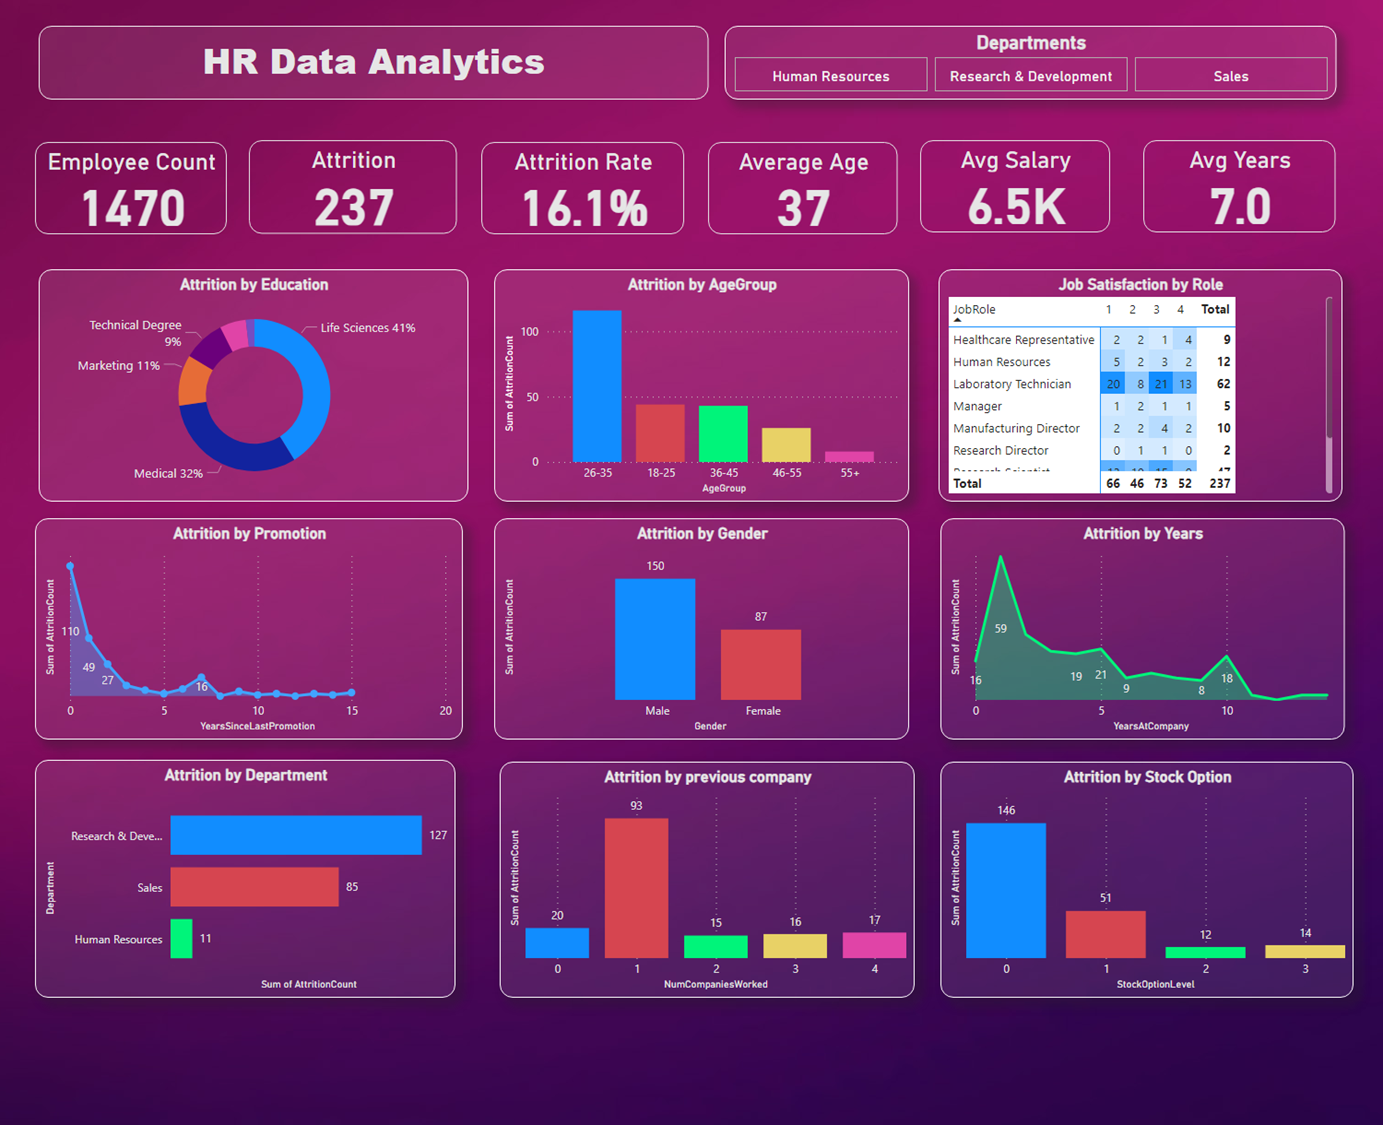

This screenshot's page, from the dashboard's own definition file:
{"tool":"powerbi","page":{"name":"Page 1","canvas":[1500,1200],"ordinal":0},"visuals":[{"type":"card","title":"Employee Count","fields":{"Values":["CountNonNull(HR_Analytics.EmpID)"]},"box":[38,144,208,100],"z":0},{"type":"card","title":"Attrition","fields":{"Values":["Sum(HR_Analytics.AttritionCount)"]},"box":[269.9,141.7,225.7,101.4],"z":1000},{"type":"card","title":"Attrition Rate","fields":{"Values":["HR_Analytics.AttritionRate"]},"box":[521.4,143.1,220,100],"z":2000},{"type":"card","title":"Average Age","fields":{"Values":["Avg(HR_Analytics.Age)"]},"box":[768.5,143.1,205.7,100],"z":3000},{"type":"card","title":"Avg Salary","fields":{"Values":["Avg(HR_Analytics.MonthlyIncome)"]},"box":[998,142,206,100],"z":4000},{"type":"card","title":"Avg Years","fields":{"Values":["Avg(HR_Analytics.YearsAtCompany)"]},"box":[1240.9,141.4,208.3,100],"z":5000},{"type":"donutChart","title":"Attrition by Education","fields":{"Category":["HR_Analytics.EducationField"],"Y":["CountNonNull(HR_Analytics.Attrition)"]},"box":[42.2,281.8,466,252],"z":6000},{"type":"clusteredColumnChart","title":"Attrition by AgeGroup","fields":{"Category":["HR_Analytics.AgeGroup"],"Y":["Sum(HR_Analytics.AttritionCount)"]},"box":[536.2,281.8,450,252],"z":7000},{"type":"pivotTable","title":"Job Satisfaction by Role","fields":{"Rows":["HR_Analytics.JobRole"],"Columns":["HR_Analytics.JobSatisfaction"],"Values":["Sum(HR_Analytics.AttritionCount)"]},"box":[1018.4,282.2,437.8,252.2],"z":8000},{"type":"stackedAreaChart","title":"Attrition by Promotion","fields":{"Category":["HR_Analytics.YearsSinceLastPromotion"],"Y":["Sum(HR_Analytics.AttritionCount)"]},"box":[38,552,464,240],"z":9000},{"type":"clusteredColumnChart","title":"Attrition by Gender","fields":{"Category":["HR_Analytics.Gender"],"Y":["Sum(HR_Analytics.AttritionCount)"]},"box":[536.7,551.7,450,240],"z":10000},{"type":"stackedAreaChart","title":"Attrition by Years","fields":{"Category":["HR_Analytics.YearsAtCompany"],"Y":["Sum(HR_Analytics.AttritionCount)"]},"box":[1020,551.7,438.3,240],"z":11000},{"type":"clusteredBarChart","title":"Attrition by Department","fields":{"Category":["HR_Analytics.Department"],"Y":["Sum(HR_Analytics.AttritionCount)"]},"box":[38,813.8,456,258],"z":12000},{"type":"clusteredColumnChart","title":"Attrition by previous company","fields":{"Category":["HR_Analytics.NumCompaniesWorked"],"Y":["Sum(HR_Analytics.AttritionCount)"]},"box":[542,815.8,450,256],"z":13000},{"type":"clusteredColumnChart","title":"Attrition by Stock Option","fields":{"Y":["Sum(HR_Analytics.AttritionCount)"],"Category":["HR_Analytics.StockOptionLevel"]},"box":[1020,815.8,448,256],"z":14000},{"type":"advancedSlicerVisual","title":"Departments","fields":{"Values":["HR_Analytics.Department"]},"box":[786.7,18.3,663.3,80],"z":15000},{"type":"textbox","box":[41.7,18.3,726.7,80],"z":16000}]}

Visuals, with their boxes in screenshot pixels (x1, y1, x2, y2), scaled from the page's 1500x1200 canvas onto the 1383x1125 screenshot:
"Employee Count" card: 35, 135, 227, 229
"Attrition" card: 249, 133, 457, 228
"Attrition Rate" card: 481, 134, 684, 228
"Average Age" card: 709, 134, 898, 228
"Avg Salary" card: 920, 133, 1110, 227
"Avg Years" card: 1144, 133, 1336, 226
"Attrition by Education" donutChart: 39, 264, 469, 500
"Attrition by AgeGroup" clusteredColumnChart: 494, 264, 909, 500
"Job Satisfaction by Role" pivotTable: 939, 265, 1343, 501
"Attrition by Promotion" stackedAreaChart: 35, 518, 463, 742
"Attrition by Gender" clusteredColumnChart: 495, 517, 910, 742
"Attrition by Years" stackedAreaChart: 940, 517, 1345, 742
"Attrition by Department" clusteredBarChart: 35, 763, 455, 1005
"Attrition by previous company" clusteredColumnChart: 500, 765, 915, 1005
"Attrition by Stock Option" clusteredColumnChart: 940, 765, 1353, 1005
"Departments" advancedSlicerVisual: 725, 17, 1337, 92
textbox: 38, 17, 708, 92
